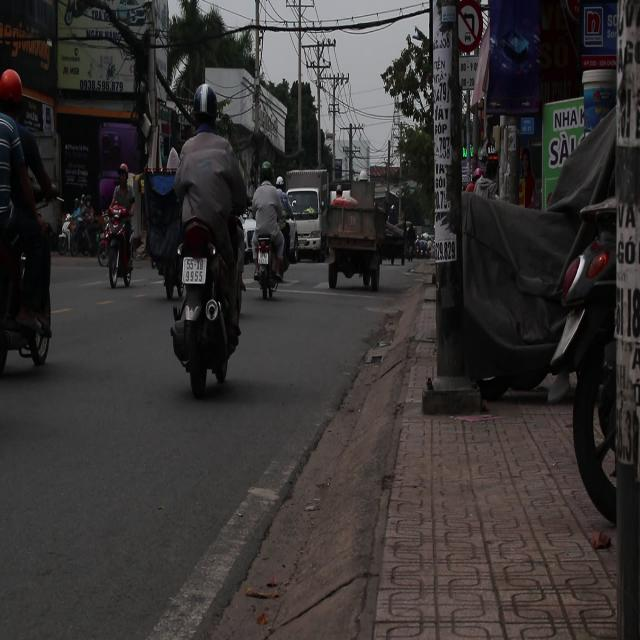motorbike: (170, 214, 238, 395), (0, 167, 54, 383), (99, 212, 137, 289), (250, 225, 282, 301), (72, 211, 99, 257), (58, 216, 76, 255)
truck: (322, 191, 382, 292), (284, 171, 328, 266)
